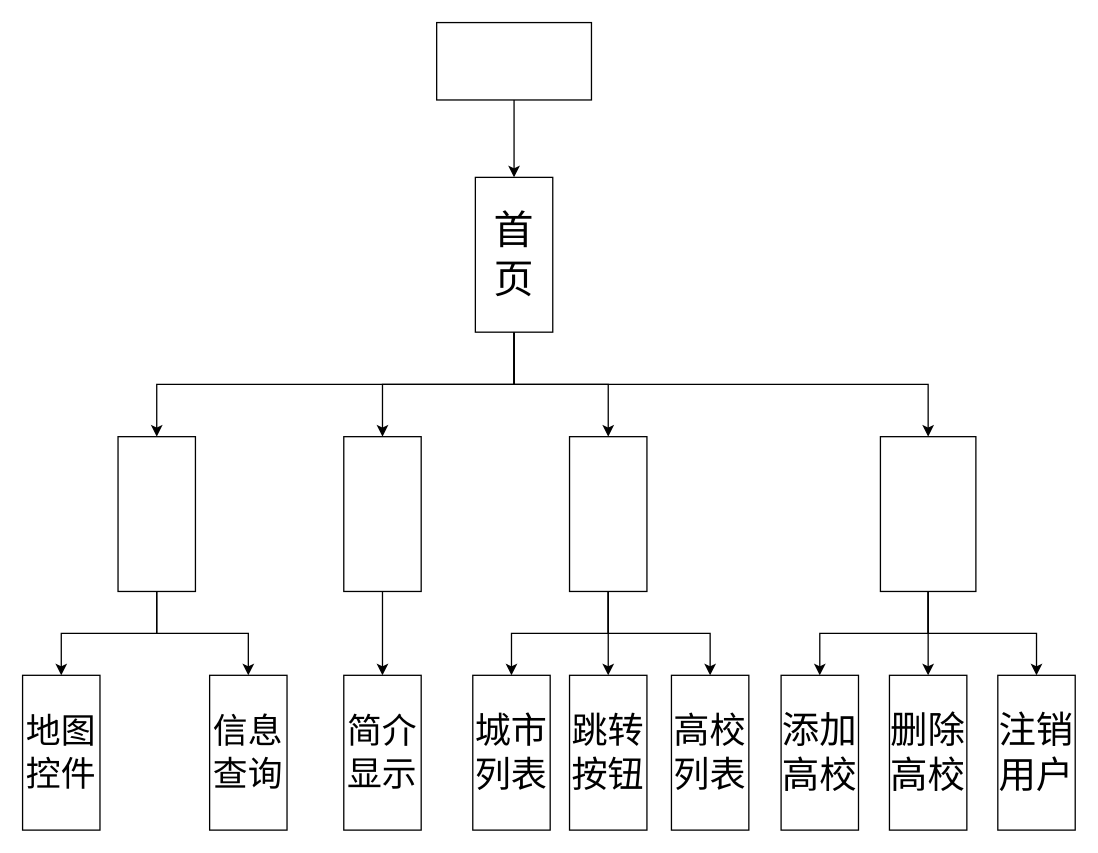
Image size: 1098x853. Some labels were removed from this diagram. The box of each missing label's shape, as (x1, y1, x2, y2) in pixels:
个人中心: (879, 435, 976, 591)
列表面板: (568, 435, 647, 591)
地图面板: (117, 435, 195, 591)
用户: (435, 21, 591, 100)
简介面板: (342, 435, 421, 591)
